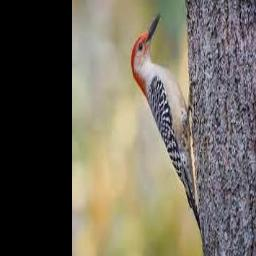Woodpecker: (131, 13, 202, 234)
